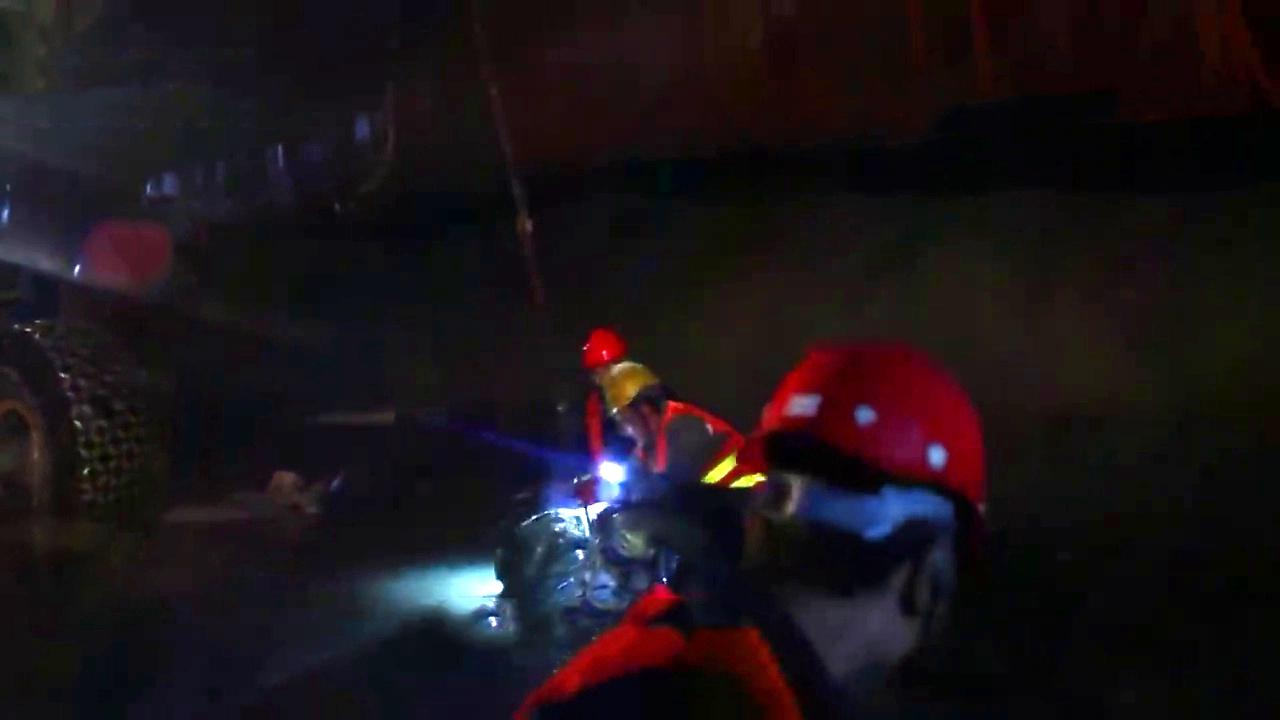helmet: (749, 330, 988, 686), (601, 360, 665, 447), (579, 324, 629, 389)
